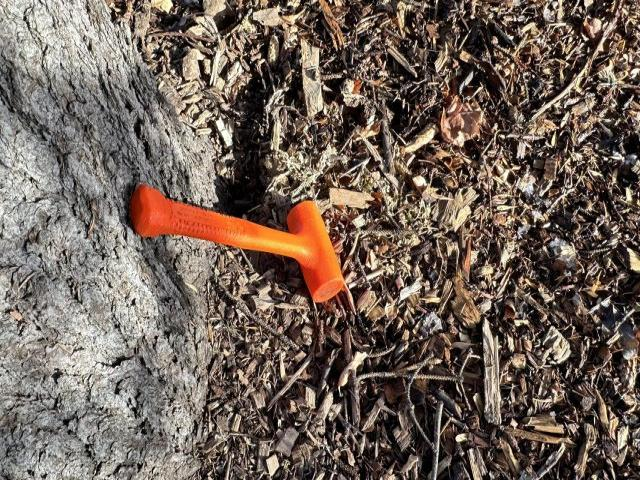hammer: (128, 184, 346, 300)
